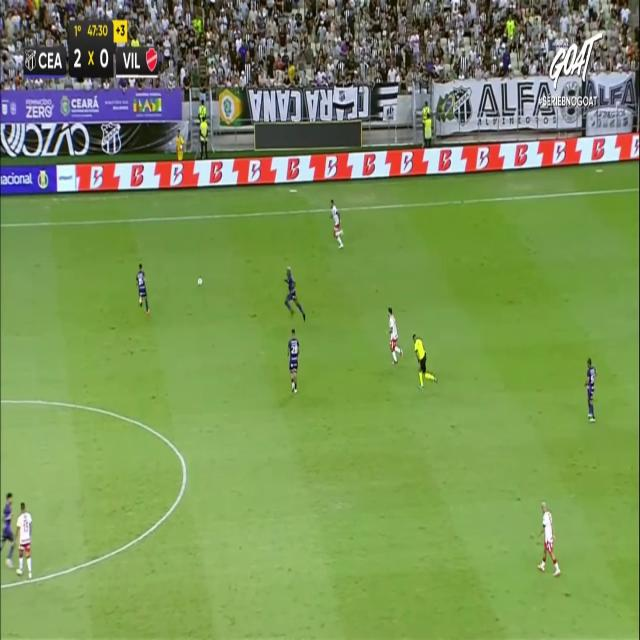ball: (197, 278, 202, 286)
player: (537, 500, 561, 576), (14, 501, 32, 579), (284, 266, 306, 322), (0, 492, 15, 567), (387, 306, 403, 364), (585, 357, 597, 422), (287, 328, 299, 393), (136, 262, 150, 315), (330, 198, 344, 249)
referee: (412, 333, 438, 390)
